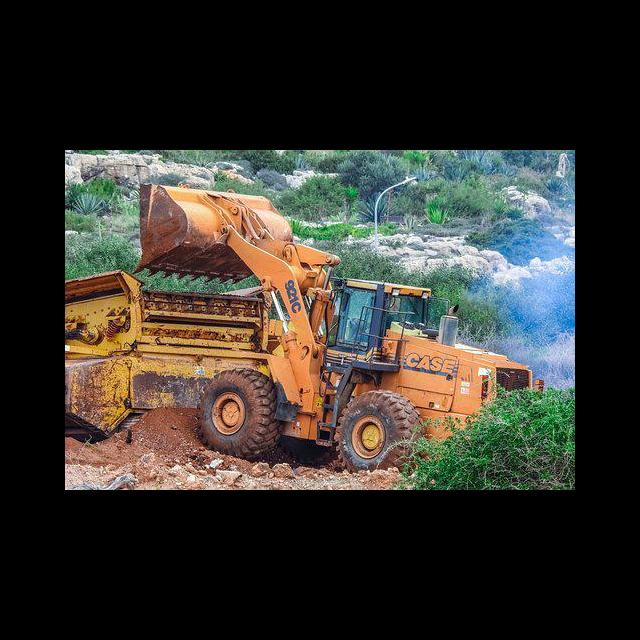Person: (361, 297, 375, 340)
dump truck: (65, 273, 276, 459)
wheel loader: (136, 182, 551, 476)
